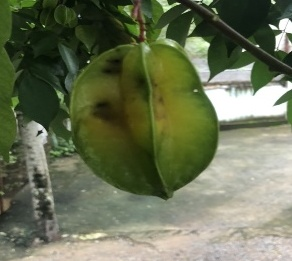Khe: (67, 38, 228, 201)
